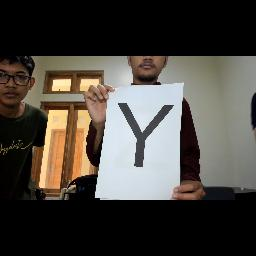y: (114, 98, 180, 172)
